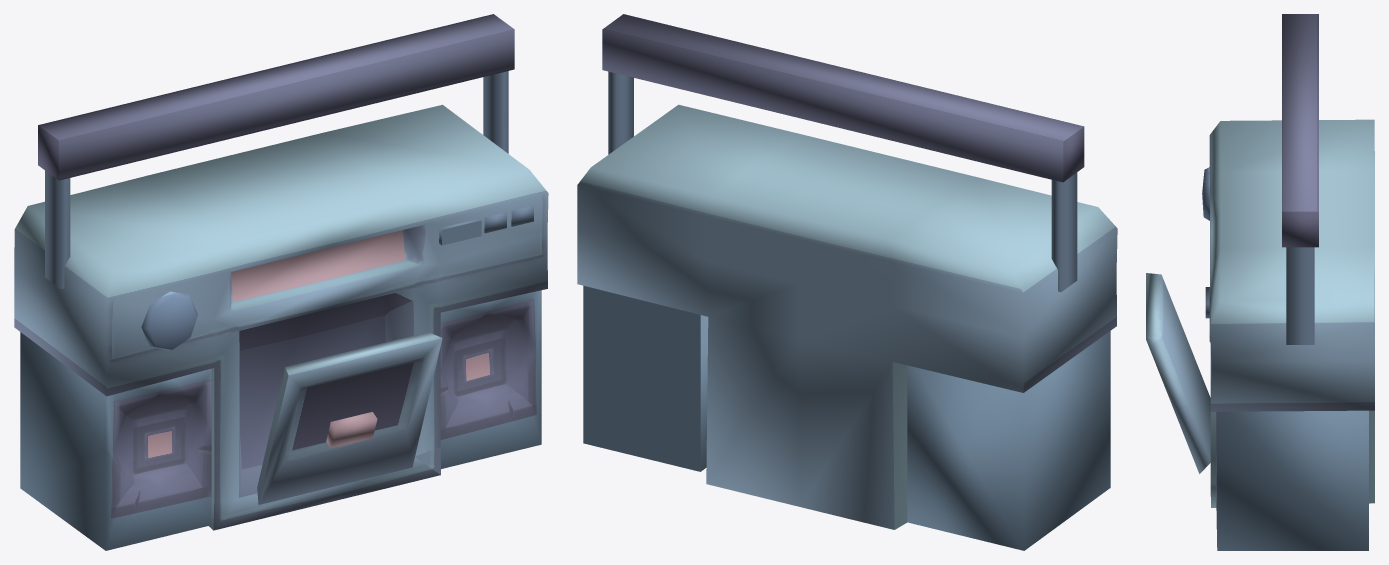
File: galactic_boombox.fbx
3 views of the same model, side by side, from view 1: azimuth 30°, elevation 25°; view 2: azimuth 150°, elevation 25°; view 3: azimuth 270°, elevation 25° (orthographic). The views are drawn at different scales.
Visible parts, largest first — view 1: boombox; view 2: boombox; view 3: boombox.
Boxes of the visible parts, left/top/right/bottom form: boombox: left=14, top=14, right=548, bottom=550; boombox: left=577, top=14, right=1117, bottom=550; boombox: left=1146, top=14, right=1374, bottom=550.
Size of the model in its own units: 0.1117 by 0.0923 by 0.0547.
